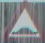Speed Breaker ahead: (7, 3, 42, 42)
